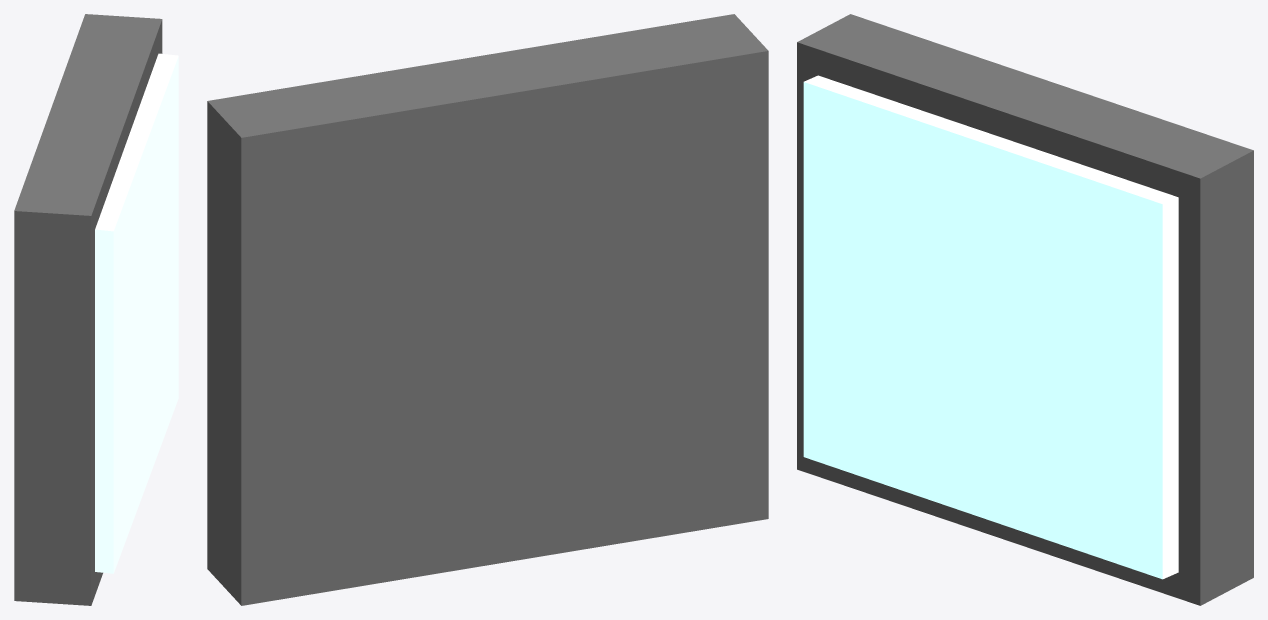
3 renders of one model, left to right at view 1: azimuth 30°, elevation 25°; view 2: azimuth 150°, elevation 25°; view 3: azimuth 270°, elevation 25°, orthographic. The views are drawn at different scales.
Visible parts, largest first — view 1: polySurface109; view 2: polySurface109; view 3: polySurface109.
Boxes of the visible parts, left/top/right/bottom form: polySurface109: left=14, top=14, right=178, bottom=605; polySurface109: left=207, top=14, right=768, bottom=605; polySurface109: left=797, top=14, right=1253, bottom=605.
Bounding box in the file's own units: 0.0186 × 0.0225 × 0.0218.
